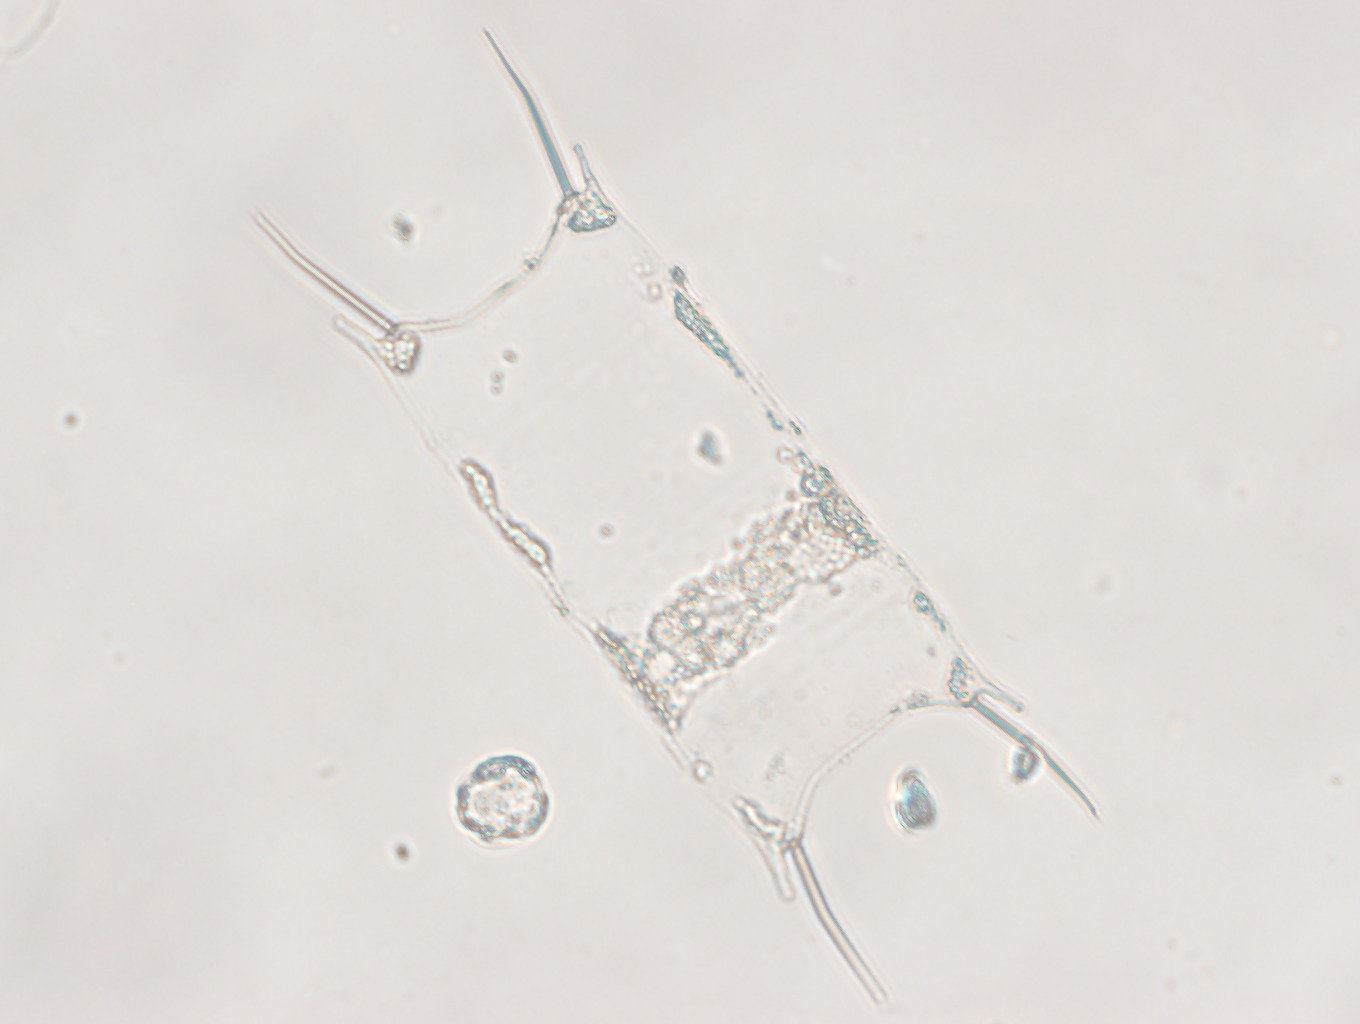biddulphia: (248, 25, 1105, 1006)
